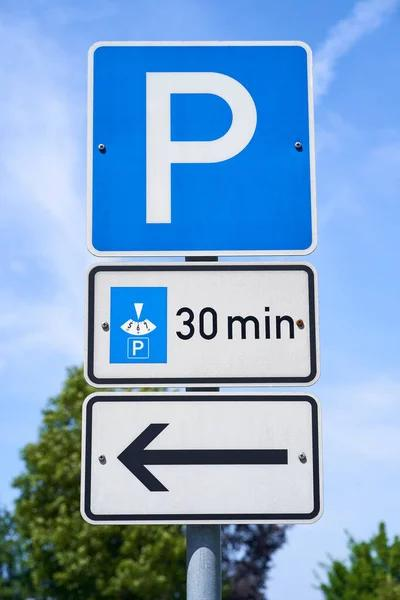parking: (84, 41, 315, 252)
